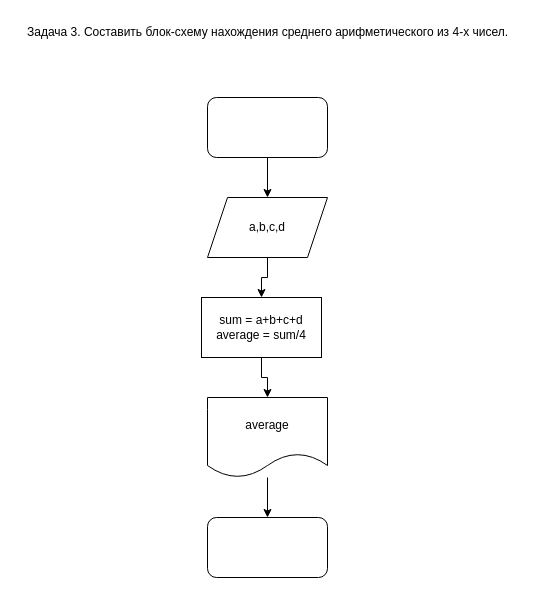
The diagram is 534 pixels wide and 595 high, and some of its shapes have lost their labels. Here are the shapes that lost their labels. From the top down, the box of each, then its label:
(206, 96, 328, 158): start
(206, 516, 328, 578): end
